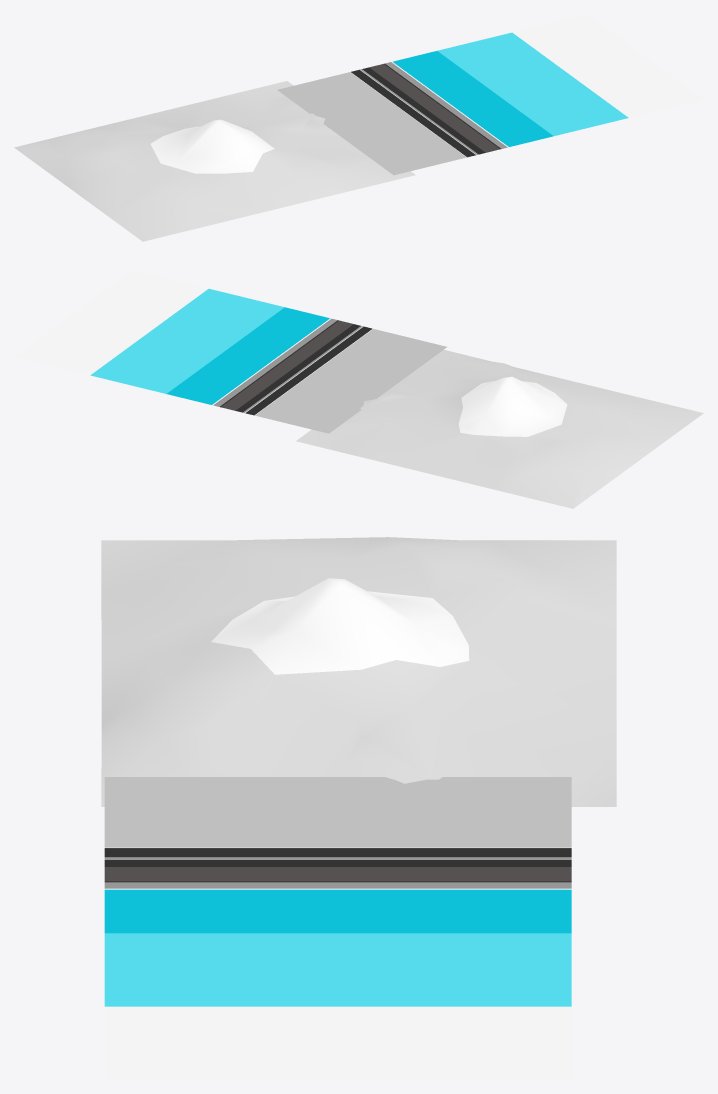
File: background.glb
3 views of the same model, one above another, from view 1: azimuth 30°, elevation 25°; view 2: azimuth 150°, elevation 25°; view 3: azimuth 270°, elevation 25° (orthographic). The views are drawn at different scales.
Visible parts, largest first — view 1: Ground Plane, Fuji-san; view 2: Ground Plane, Fuji-san; view 3: Ground Plane, Fuji-san.
Part boxes in pixels (bbox=[...]): Ground Plane: bbox=[277, 14, 703, 175]; Fuji-san: bbox=[14, 81, 415, 241]; Ground Plane: bbox=[14, 270, 446, 433]; Fuji-san: bbox=[296, 350, 703, 508]; Ground Plane: bbox=[104, 777, 571, 1079]; Fuji-san: bbox=[101, 537, 616, 806].
Size of the model in its own units: 556 by 45.71 by 221.
1 material, 1 textured.
